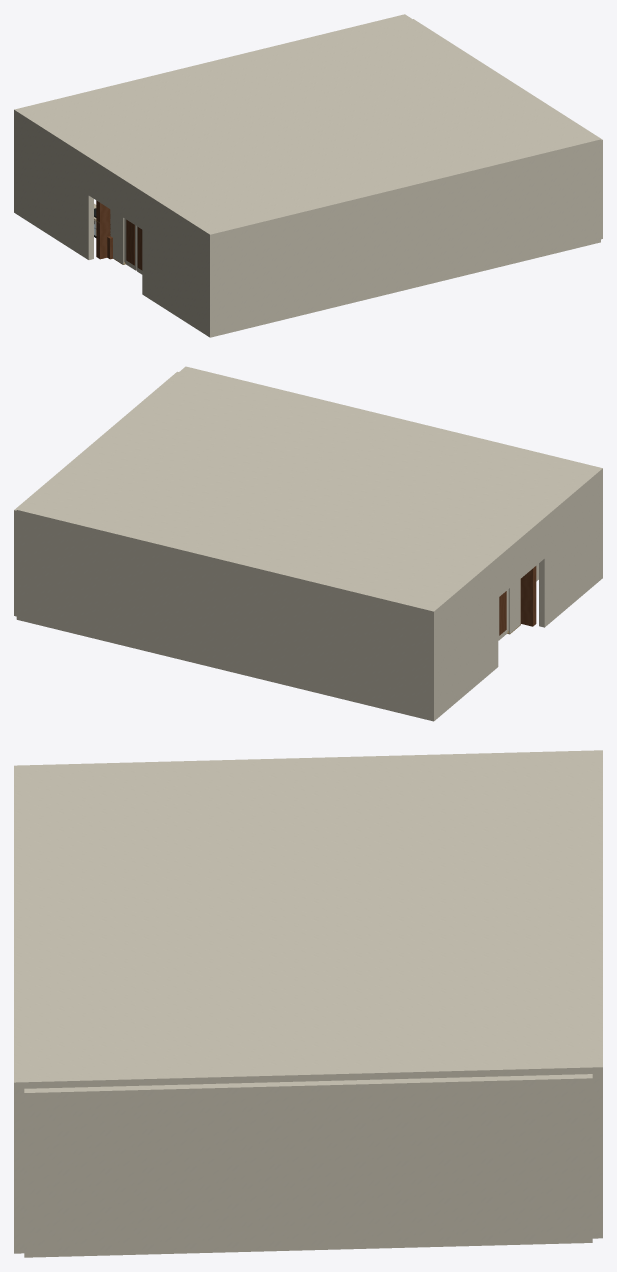
The picture shows the model from 3 angles, top to bottom: view 1: azimuth 30°, elevation 25°; view 2: azimuth 150°, elevation 25°; view 3: azimuth 270°, elevation 25°; orthographic projection. The views are drawn at different scales.
Parts seen in each view (by area): view 1: PremiumPressureClosure, ForePartyWall, InnerAftPartyReturn, InnerForePartyReturn, ArrivalHeader, ArrivalAftPocket, PrivateEntry_01_ENTRY_PocketSkin_1_1, HeldFrontageOpaqueEnclosure; view 2: PremiumPressureClosure, AftPartyWall, InnerAftPartyReturn, InnerForePartyReturn, ArrivalHeader, ArrivalForePocket, HeldFrontageOpaqueEnclosure, PrivateEntry_01_ENTRY_PocketSkin_-1_1; view 3: PremiumPressureClosure, HeldFrontageOpaqueEnclosure, AftPartyWall, ForePartyWall.
Boxes of the visible parts, x1,y1,x2,y2 form: PremiumPressureClosure: (14, 14, 600, 238); ForePartyWall: (206, 143, 600, 337); InnerAftPartyReturn: (14, 114, 93, 259); InnerForePartyReturn: (142, 195, 215, 337); ArrivalHeader: (88, 161, 142, 229); ArrivalAftPocket: (96, 200, 110, 259); PrivateEntry_01_ENTRY_PocketSkin_1_1: (110, 209, 124, 264); HeldFrontageOpaqueEnclosure: (413, 19, 602, 239); PremiumPressureClosure: (16, 366, 602, 615); AftPartyWall: (16, 514, 434, 721); InnerAftPartyReturn: (428, 561, 498, 720); InnerForePartyReturn: (539, 475, 599, 627); ArrivalHeader: (498, 522, 544, 597); ArrivalForePocket: (521, 566, 536, 626); HeldFrontageOpaqueEnclosure: (14, 371, 178, 616); PrivateEntry_01_ENTRY_PocketSkin_-1_1: (508, 579, 520, 633); PremiumPressureClosure: (14, 750, 602, 1088); HeldFrontageOpaqueEnclosure: (24, 1074, 592, 1257); AftPartyWall: (592, 1073, 602, 1238); ForePartyWall: (14, 1089, 24, 1253).
Size of the model in its own units: 18.75 by 4.45 by 13.88.
158 materials, 152 textured.
